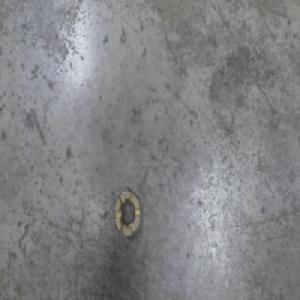Nut: (113, 185, 142, 240)
